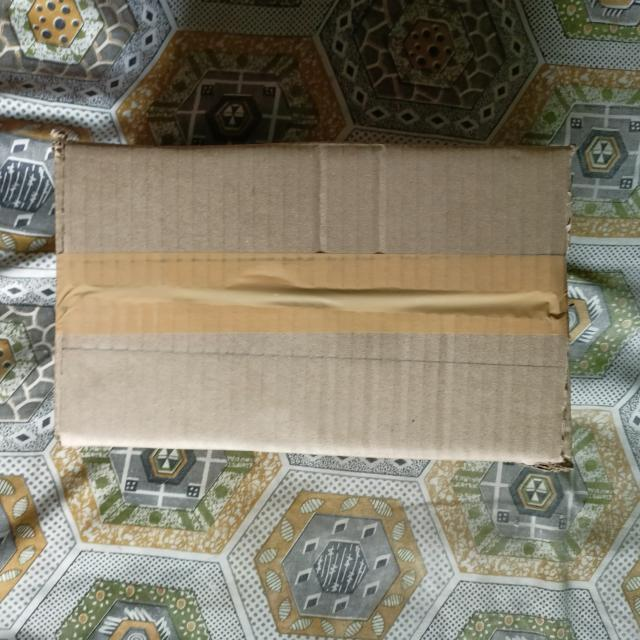box: (57, 141, 578, 460)
